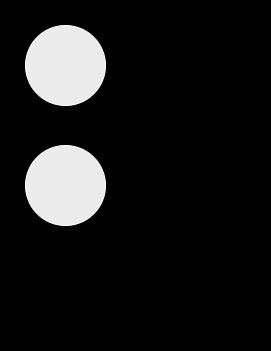B: (18, 16, 258, 340)
